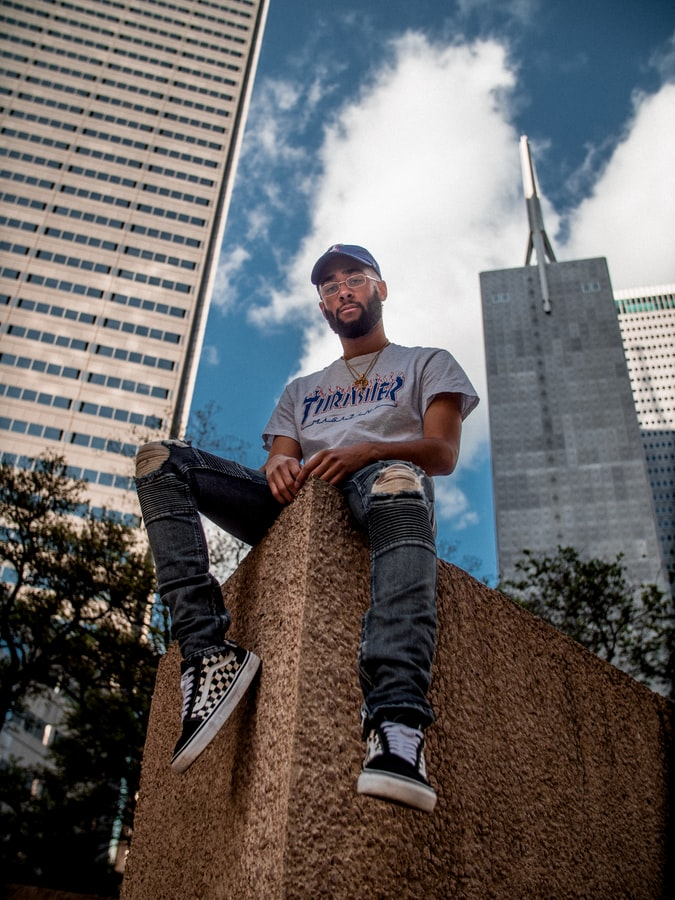beard: (321, 300, 391, 340)
glasses: (313, 273, 372, 295)
